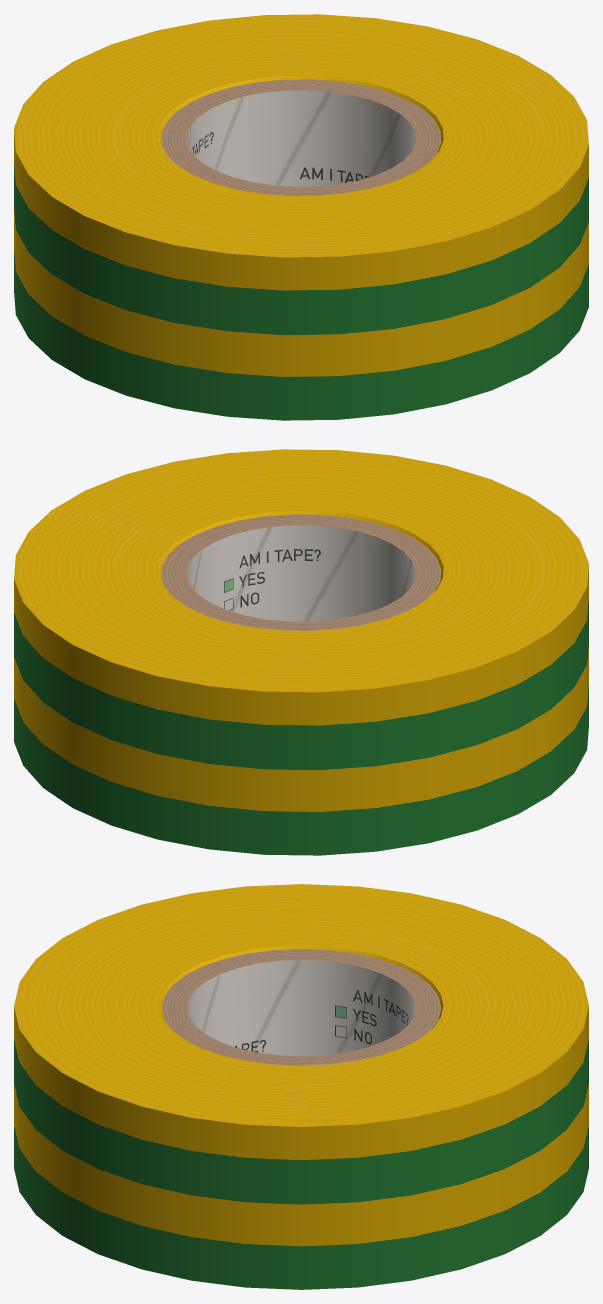
File: Tape_Eletrical.fbx
The picture shows the model from 3 angles, top to bottom: view 1: azimuth 30°, elevation 25°; view 2: azimuth 150°, elevation 25°; view 3: azimuth 270°, elevation 25°; orthographic projection.
Visible parts, largest first — view 1: Tape_Electrical; view 2: Tape_Electrical; view 3: Tape_Electrical.
Boxes of the visible parts, box(x1,y1,x2,y2) form: Tape_Electrical: box(14, 14, 588, 420); Tape_Electrical: box(14, 449, 588, 855); Tape_Electrical: box(14, 884, 588, 1289).
Size of the model in its own units: 80 by 80 by 25.
